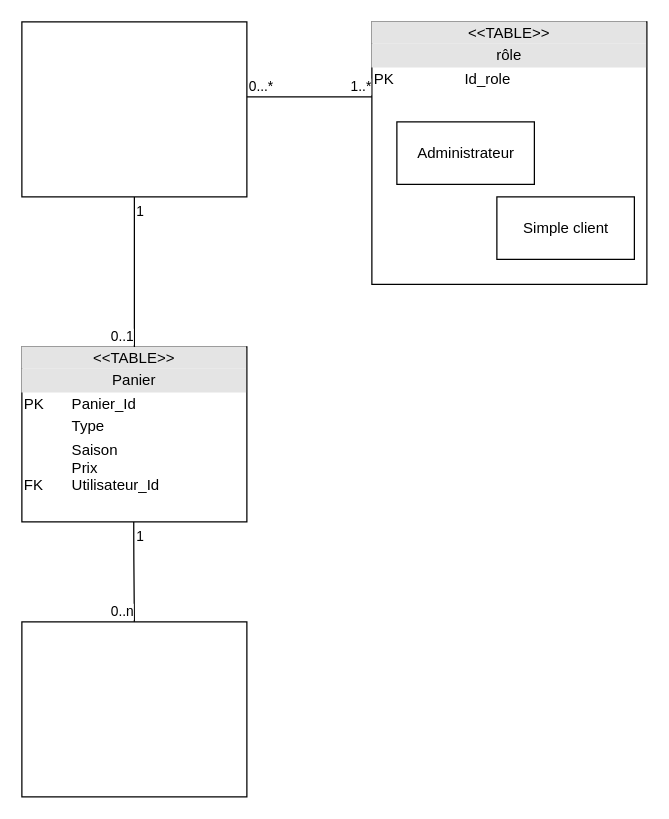
Some shapes in this 669 by 819 pixel diagram are drawn without their labels. Each missing label, with the box of its shape:
<<TABLE>> Article PK Article_Id Type FK Saison Prix Panier_Id: (21, 621, 247, 797)
<<TABLE>> Utilisateur PK uniqueId Role masqué Carte bancaire: (21, 21, 247, 197)
